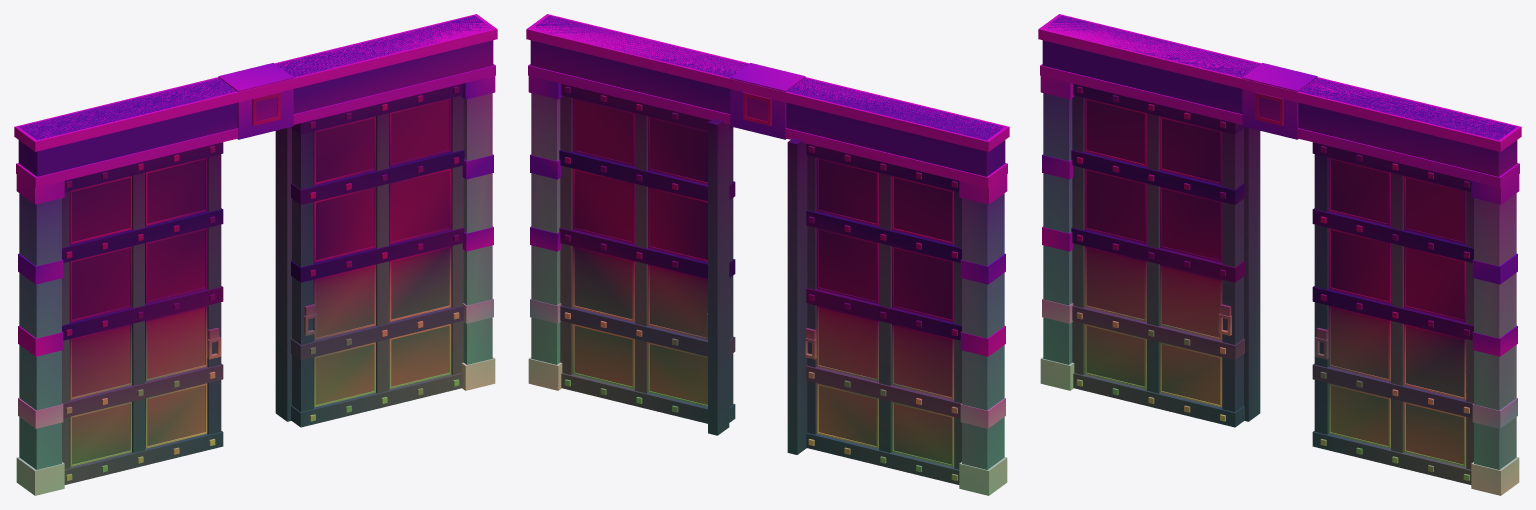
The model's file is gate_black.glb.
3 renders of one model, left to right at view 1: azimuth 30°, elevation 25°; view 2: azimuth 150°, elevation 25°; view 3: azimuth 330°, elevation 25°, orthographic.
Visible parts, largest first — view 1: gate_panels, gate_leaves, gate_lintel, gate_trim, gate_gild; view 2: gate_panels, gate_leaves, gate_lintel, gate_trim, gate_gild; view 3: gate_panels, gate_leaves, gate_lintel, gate_trim, gate_gild.
Part boxes in pixels (bbox=[...]): gate_panels: bbox=[69, 100, 449, 464]; gate_leaves: bbox=[62, 84, 464, 484]; gate_lintel: bbox=[18, 15, 493, 469]; gate_trim: bbox=[14, 14, 497, 495]; gate_gild: bbox=[66, 86, 459, 480]; gate_panels: bbox=[574, 100, 954, 466]; gate_leaves: bbox=[559, 84, 961, 484]; gate_lintel: bbox=[530, 16, 1005, 469]; gate_trim: bbox=[526, 14, 1009, 495]; gate_gild: bbox=[564, 86, 957, 480]; gate_panels: bbox=[1086, 100, 1466, 466]; gate_leaves: bbox=[1071, 84, 1473, 484]; gate_lintel: bbox=[1042, 15, 1517, 469]; gate_trim: bbox=[1038, 14, 1521, 495]; gate_gild: bbox=[1076, 86, 1469, 480].
Size of the model in its own units: 8.72 by 6.42 by 0.86.
